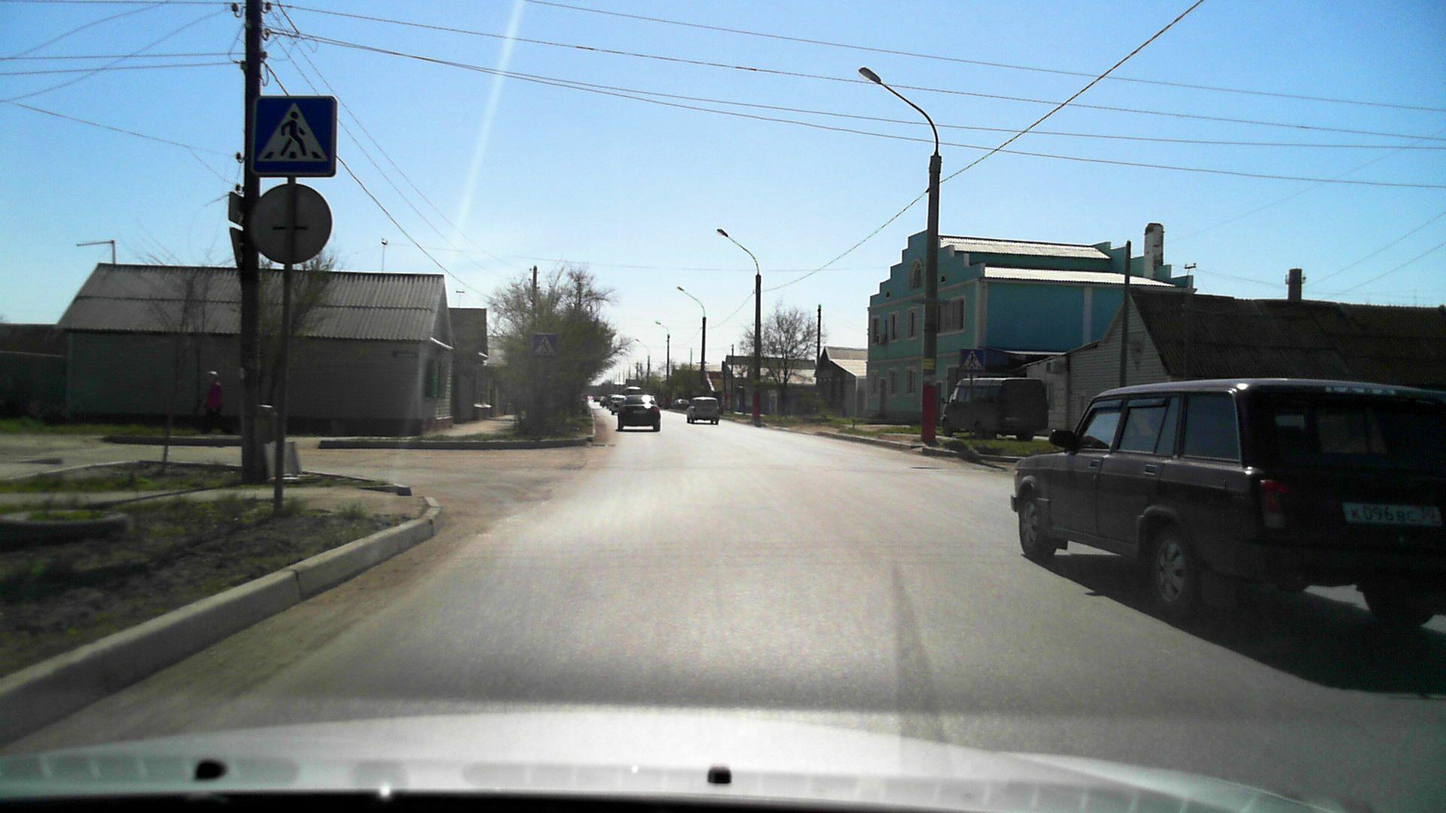road_sign: (247, 94, 342, 180), (957, 347, 986, 374), (532, 333, 557, 358)
